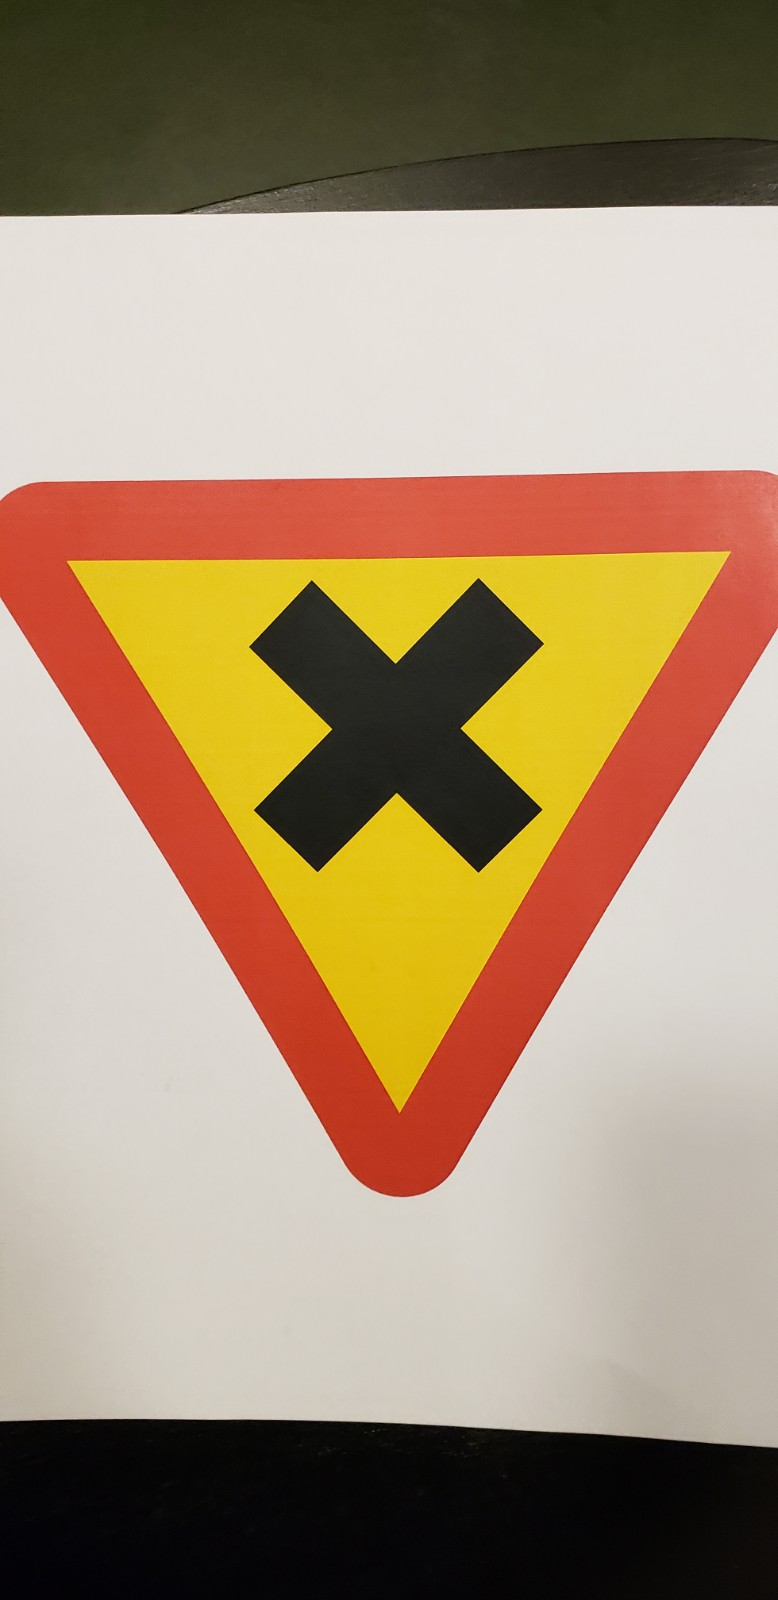junction: (5, 423, 778, 1208)
